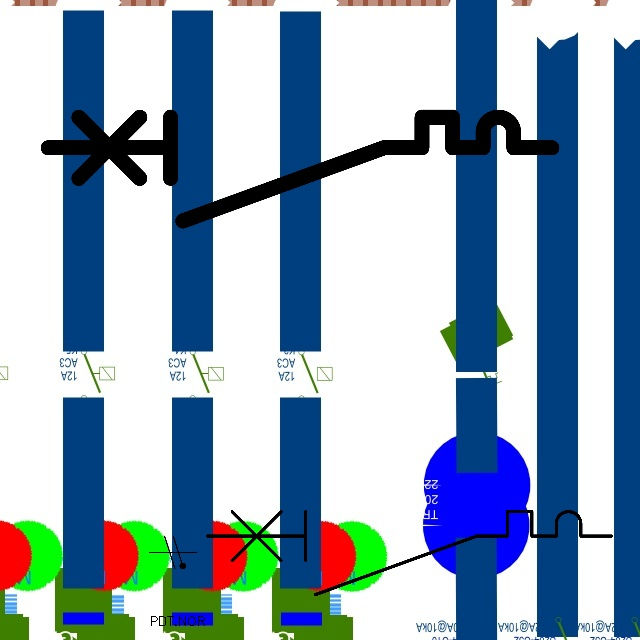interruptor_termomagnetico: (35, 104, 565, 233), (197, 501, 622, 605)
